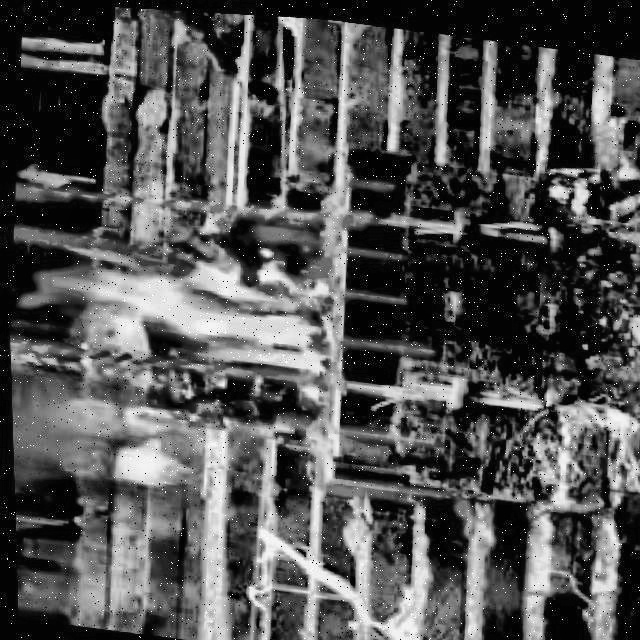Fire: (41, 230, 335, 379)
